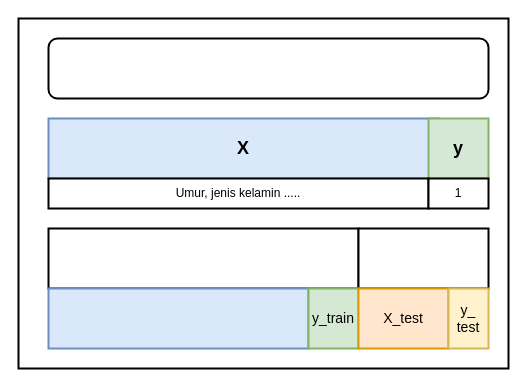
The diagram is 526 pixels wide and 386 high, and some of its shapes have lost their labels. Here are the shapes that lost their labels. From the top down, the box of each, then its label:
(47, 37, 489, 99): Dataset
(47, 227, 359, 289): Data Train 80%
(357, 227, 489, 289): Data Test 20%
(47, 287, 309, 349): X_train
